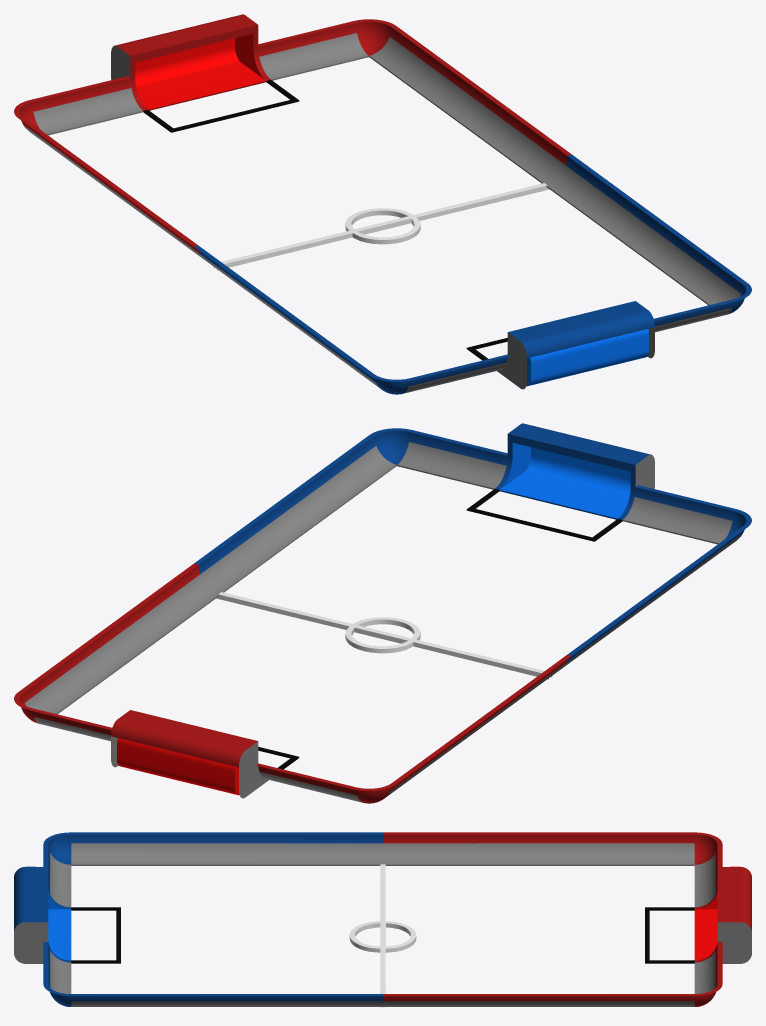
Rendered from Map_Walls.fbx.
The picture shows the model from 3 angles, top to bottom: view 1: azimuth 30°, elevation 25°; view 2: azimuth 150°, elevation 25°; view 3: azimuth 270°, elevation 25°; orthographic projection. The views are drawn at different scales.
Parts seen in each view (by area): view 1: MAP_Walls; view 2: MAP_Walls; view 3: MAP_Walls.
Boxes of the visible parts, bbox=[...] form: MAP_Walls: bbox=[14, 14, 751, 394]; MAP_Walls: bbox=[14, 423, 751, 803]; MAP_Walls: bbox=[14, 832, 751, 1007].
Size of the model in its own units: 4418 by 561 by 8418.
1 material, 1 textured.
